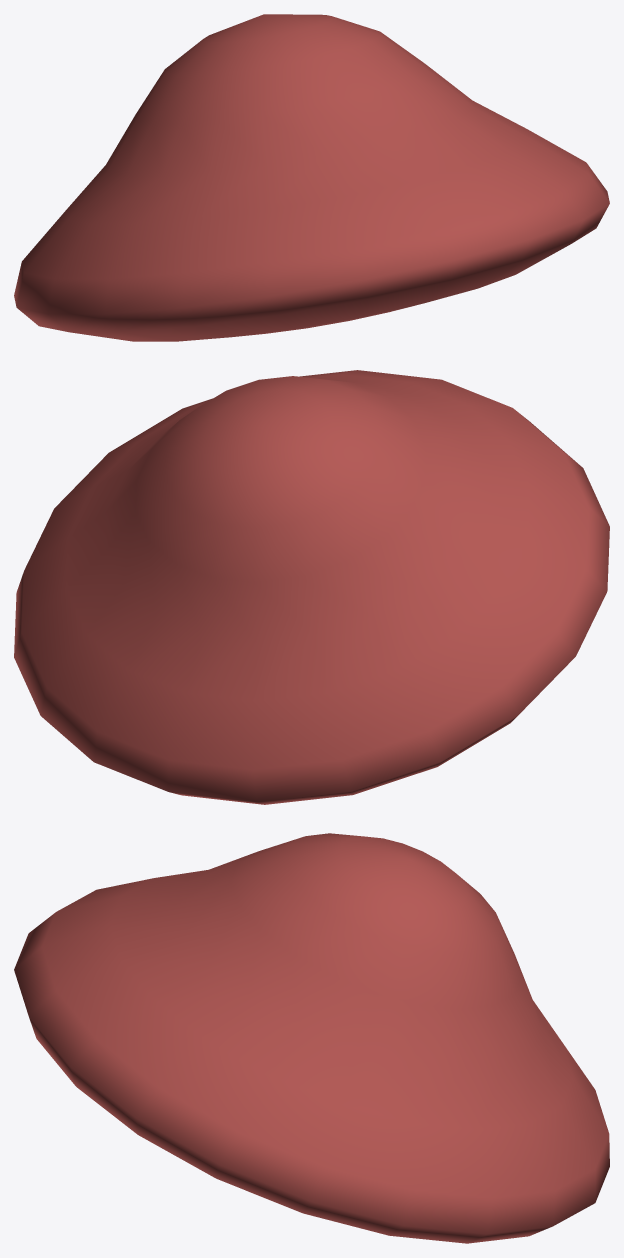
Rendered from mushroom hat.fbx.
The picture shows the model from 3 angles, top to bottom: view 1: azimuth 30°, elevation 25°; view 2: azimuth 150°, elevation 25°; view 3: azimuth 270°, elevation 25°; orthographic projection. The views are drawn at different scales.
Parts seen in each view (by area): view 1: polySurface496; view 2: polySurface496; view 3: polySurface496.
Part boxes in pixels (left/top/right/bottom): polySurface496: left=14, top=14, right=609, bottom=341; polySurface496: left=14, top=370, right=609, bottom=804; polySurface496: left=14, top=833, right=609, bottom=1243.
Size of the model in its own units: 0.0976 by 0.056 by 0.092.
